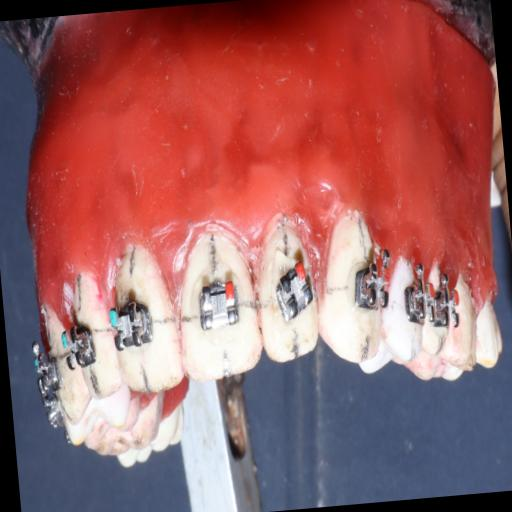incorrect_brace: (250, 217, 323, 364), (196, 270, 246, 332), (274, 260, 316, 326)
